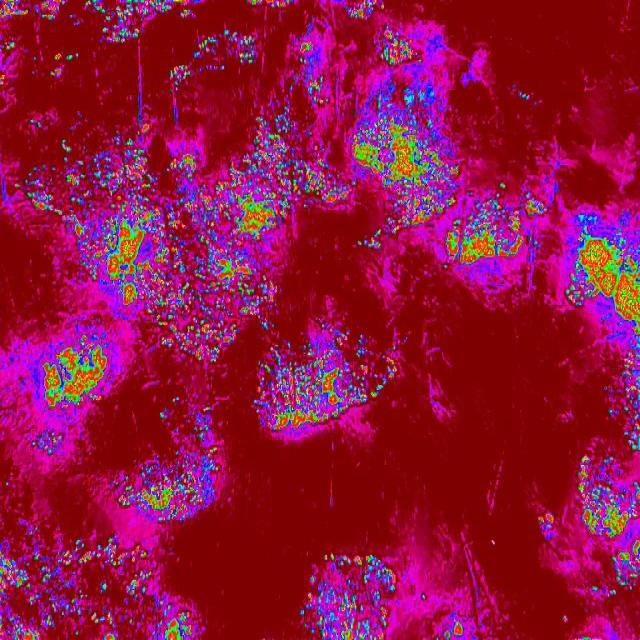fire: (82, 104, 294, 354), (347, 29, 461, 230), (0, 545, 189, 640), (260, 324, 404, 438), (568, 212, 640, 348), (116, 438, 229, 523), (572, 452, 640, 592), (294, 554, 404, 640), (447, 189, 553, 275), (39, 322, 117, 419), (294, 125, 346, 209), (607, 344, 640, 454)
